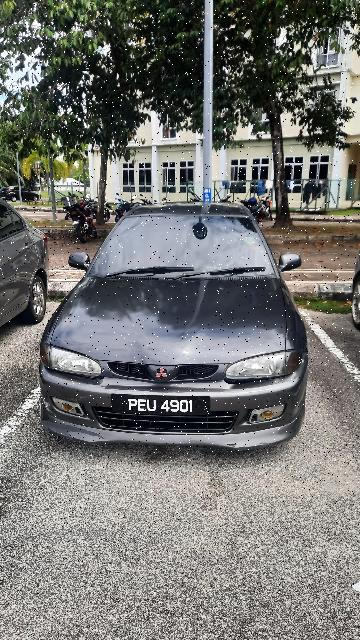License_Plate: (110, 390, 214, 423)
car: (30, 199, 314, 456)
